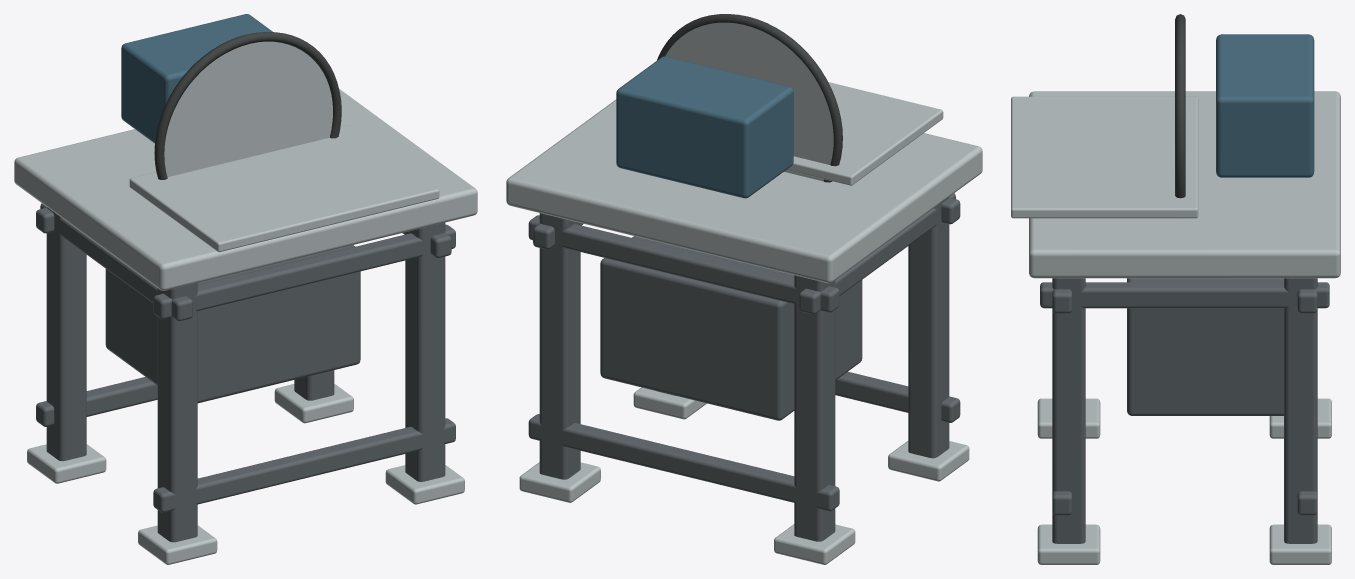
Rendered from glassblowing-studio-and-gallery-diamond-saw-f8393104__29620.glb.
3 renders of one model, left to right at view 1: azimuth 30°, elevation 25°; view 2: azimuth 150°, elevation 25°; view 3: azimuth 270°, elevation 25°, orthographic. The views are drawn at different scales.
Visible parts, largest first — view 1: diamond-saw; view 2: diamond-saw; view 3: diamond-saw.
Boxes of the visible parts, box(x1,y1,x2,y2) form: diamond-saw: box(14, 14, 477, 564); diamond-saw: box(506, 14, 982, 564); diamond-saw: box(1011, 14, 1340, 564).
Bounding box in the file's own units: 0.86 × 1.15 × 0.74.
